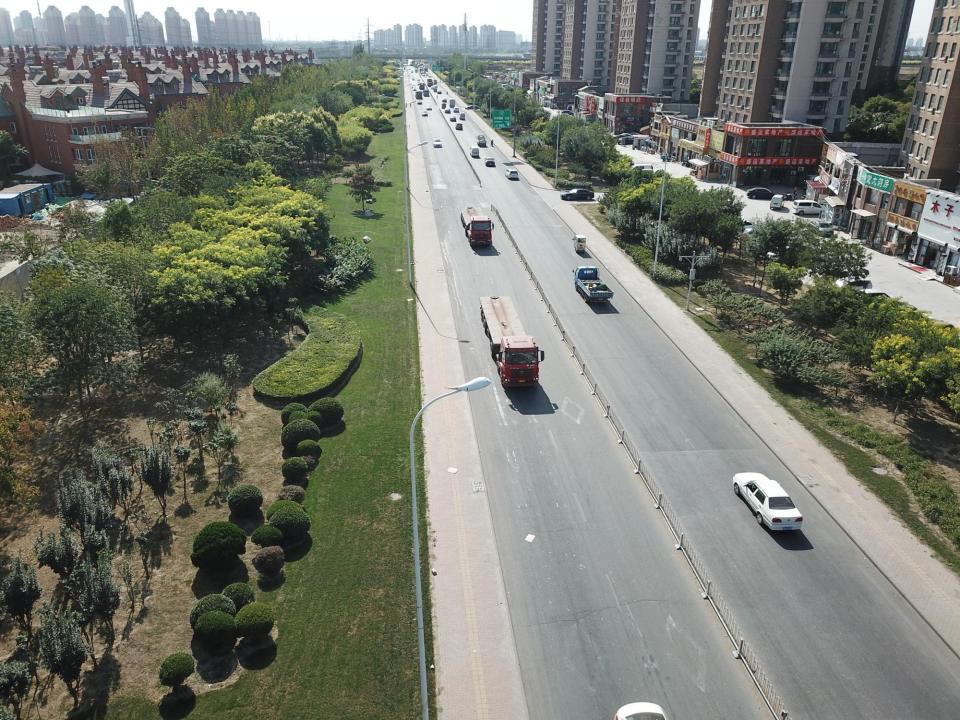car: (732, 471, 804, 531), (825, 276, 873, 296), (876, 302, 918, 319), (858, 288, 897, 306), (764, 244, 791, 262), (560, 188, 594, 200), (726, 219, 756, 232), (746, 187, 779, 198), (736, 227, 761, 241), (504, 169, 519, 179), (432, 138, 443, 148), (484, 157, 496, 166), (464, 105, 480, 109), (456, 122, 463, 130), (450, 115, 456, 121), (444, 108, 450, 114), (417, 99, 423, 105), (422, 111, 428, 116), (453, 107, 459, 112), (426, 105, 432, 110), (437, 90, 442, 94)
truck: (478, 294, 545, 388), (572, 265, 614, 303), (460, 206, 494, 246), (475, 134, 487, 147), (415, 91, 422, 99), (449, 98, 455, 107), (423, 90, 429, 97)
van: (792, 199, 828, 215), (626, 164, 654, 174), (770, 194, 784, 210), (632, 169, 654, 179), (470, 146, 480, 158), (459, 112, 465, 120), (441, 102, 446, 109), (433, 88, 437, 92)
